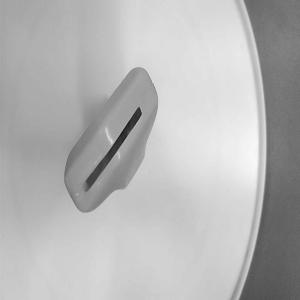estilete: (64, 66, 158, 214)
